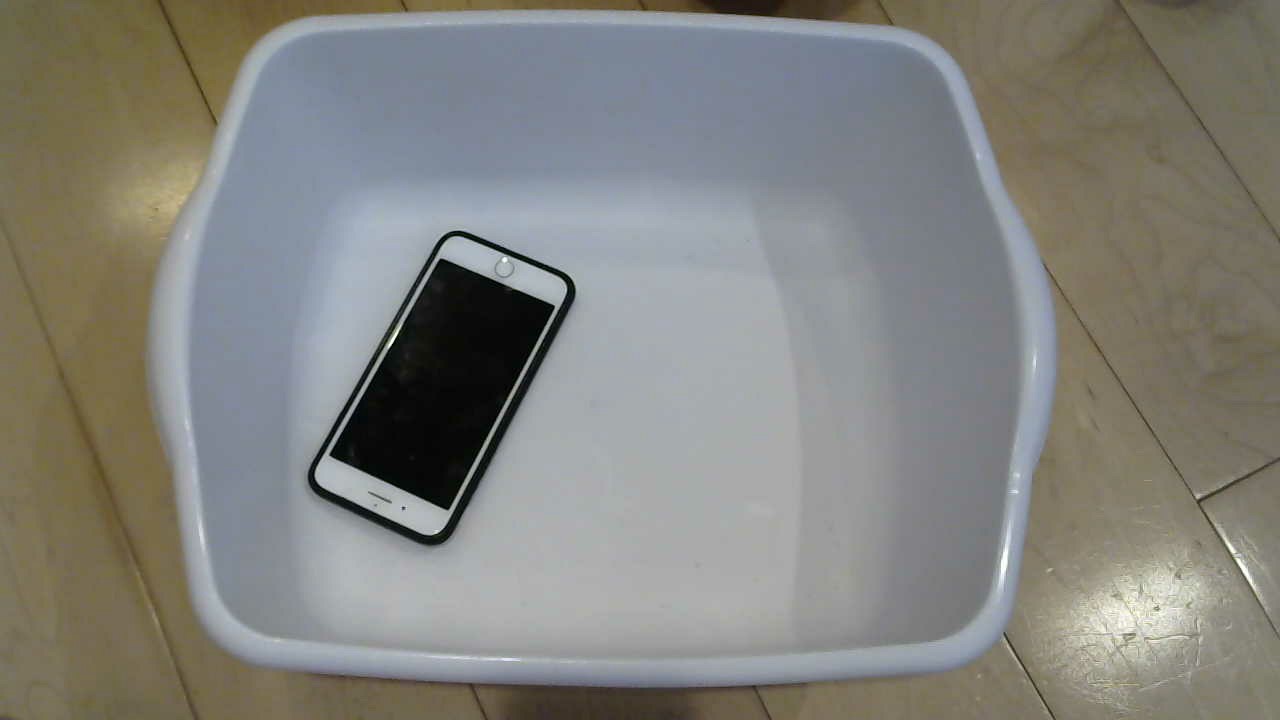phone: (306, 223, 585, 557)
